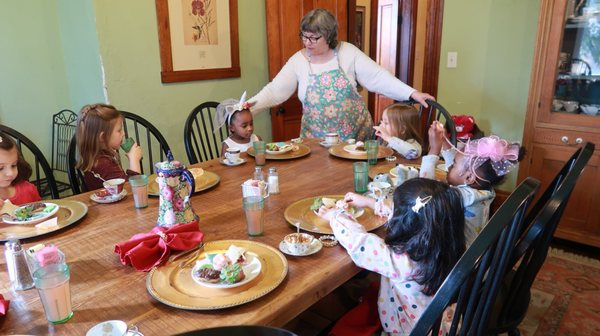pizza: (31, 243, 74, 324), (154, 161, 194, 221), (241, 180, 265, 237), (129, 173, 149, 209), (103, 178, 126, 202), (353, 161, 369, 193), (420, 153, 438, 180), (362, 137, 379, 163)
